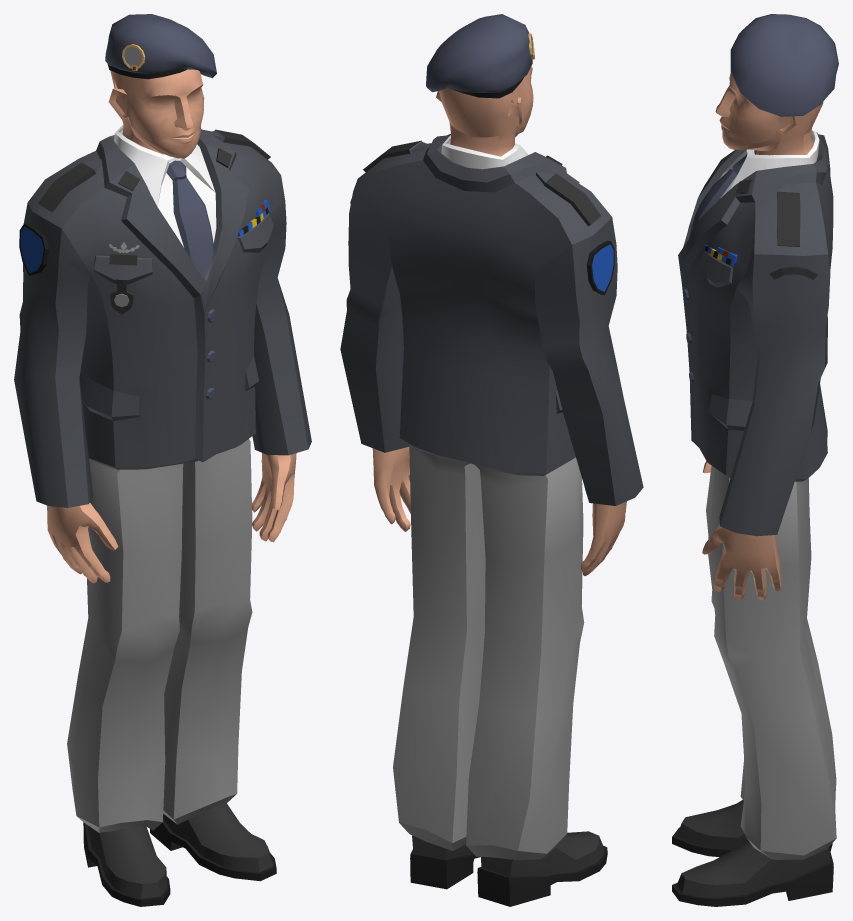
File: Uniform A.glb
3 renders of one model, left to right at view 1: azimuth 30°, elevation 25°; view 2: azimuth 150°, elevation 25°; view 3: azimuth 270°, elevation 25°, orthographic. The views are drawn at different scales.
Parts seen in each view (by area): view 1: Uniform A.002; view 2: Uniform A.002; view 3: Uniform A.002.
Boxes of the visible parts, x1,y1,x2,y2 form: Uniform A.002: (14,14,311,906); Uniform A.002: (340,14,643,906); Uniform A.002: (672,14,838,906).
Bounding box in the file's own units: 0.534 × 1.6 × 0.2862.
Materials: 2 (2 with a texture image).
